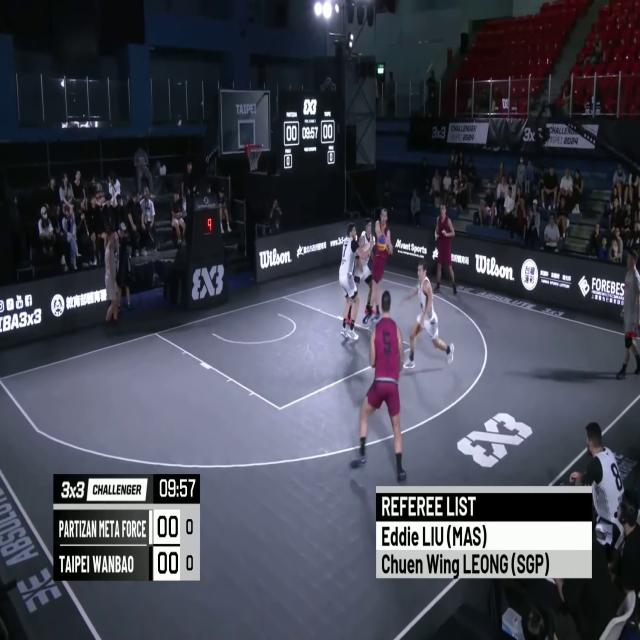ball: (378, 233, 387, 251)
hoop: (247, 141, 263, 172)
player: (354, 287, 405, 480), (403, 256, 454, 369), (339, 223, 365, 344), (367, 211, 392, 326), (432, 199, 458, 297), (355, 218, 376, 328)
